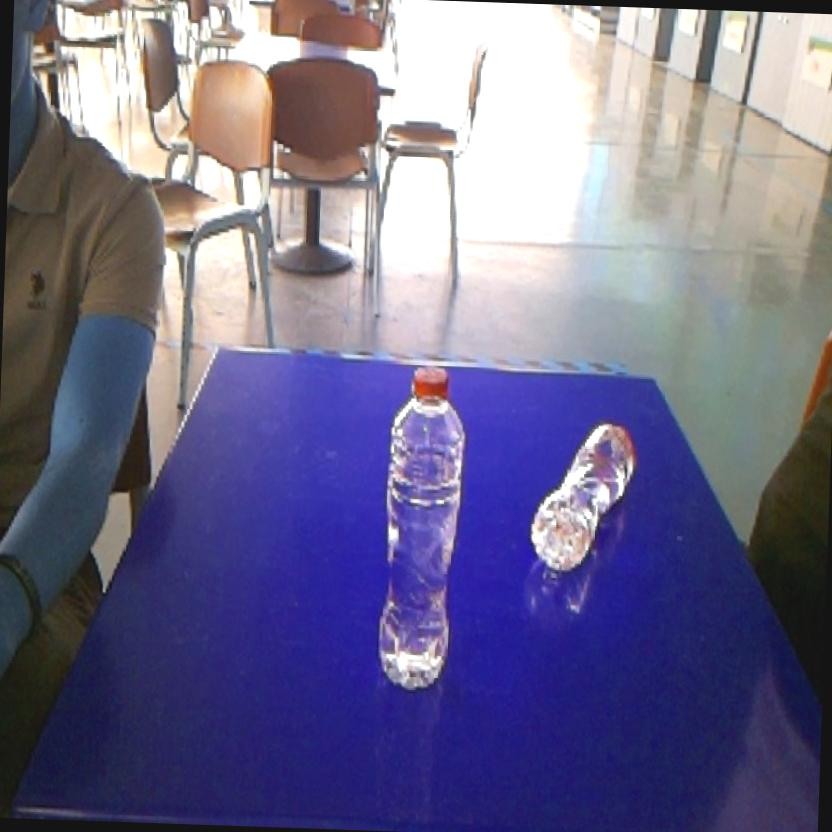no_label: (370, 358, 477, 700)
